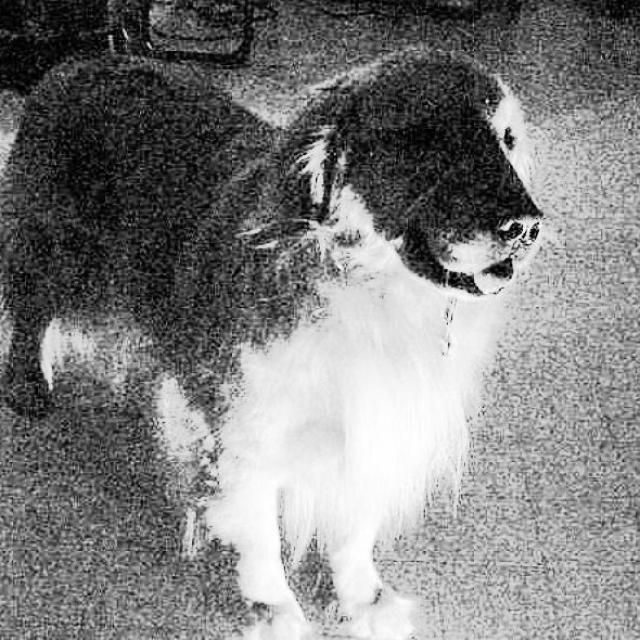Dog: (0, 27, 586, 640)
